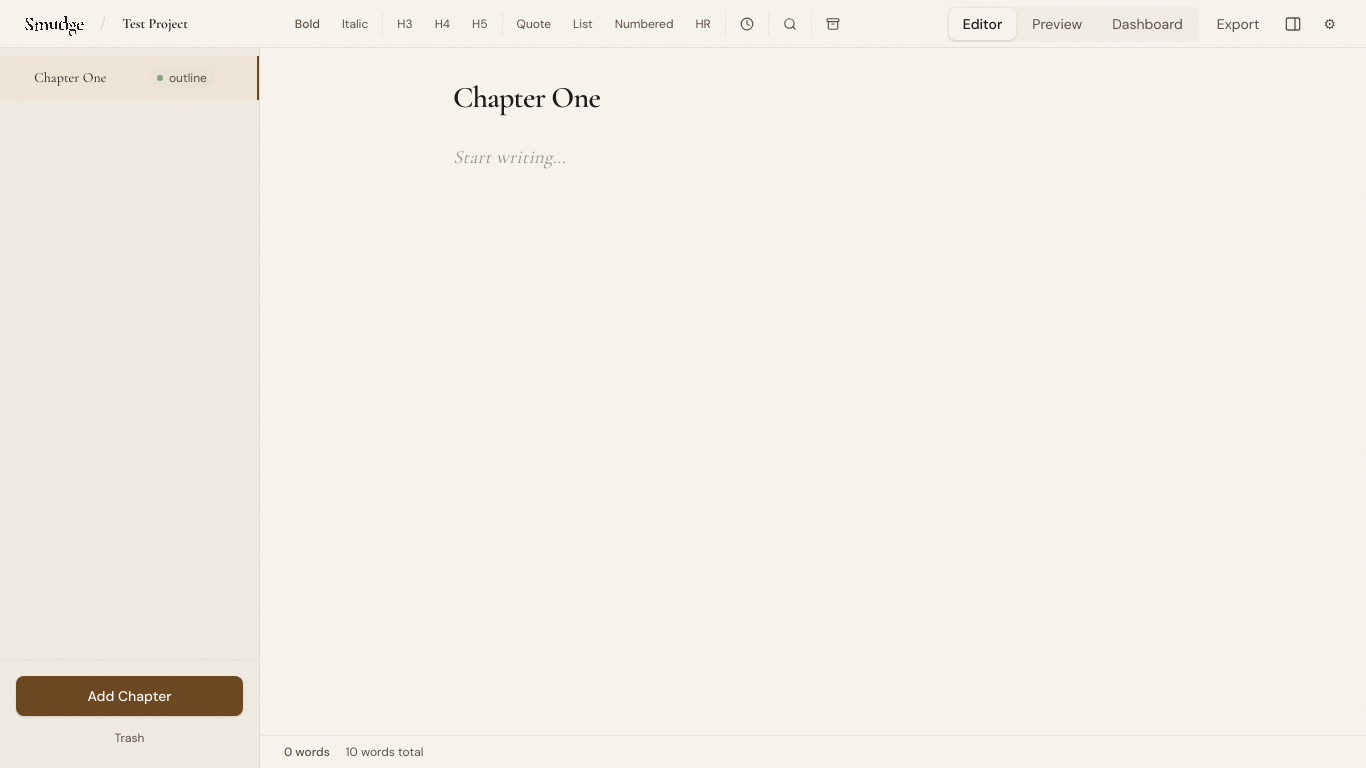
Test case: EditorPage F-1 safety net: Project settings dialog wiring › mounts the project settings dialog when the gear button is clicked and unmounts on close
Check: the heading "Chapter One" is shown, box [453,79,600,116]
Check: the heading "Project Settings" is not shown
Click the button named "Open project settings".
click(1330, 24)  # box [1317,8,1342,40]
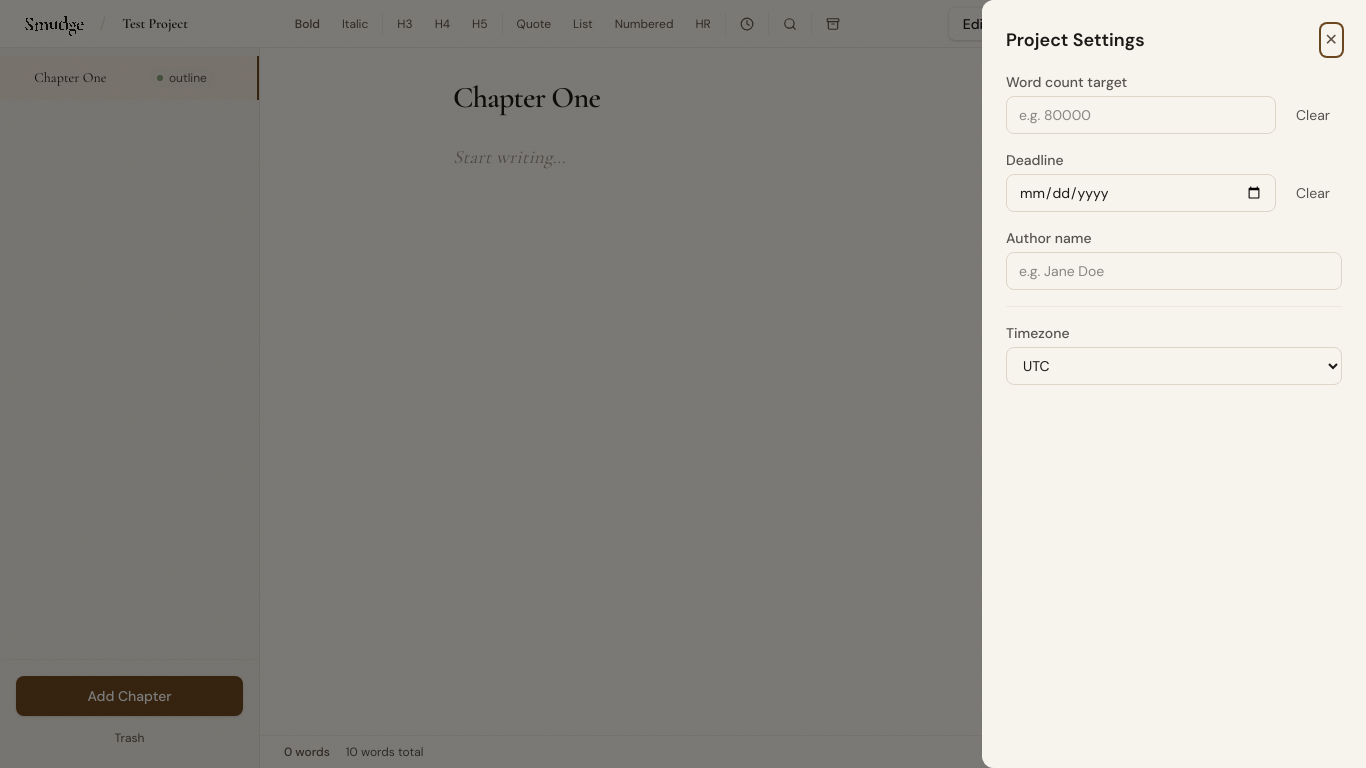
Check: the heading "Project Settings" is shown, box [1006,26,1145,54]
Click the button named "Close".
click(1331, 40)  # box [1321,24,1342,56]
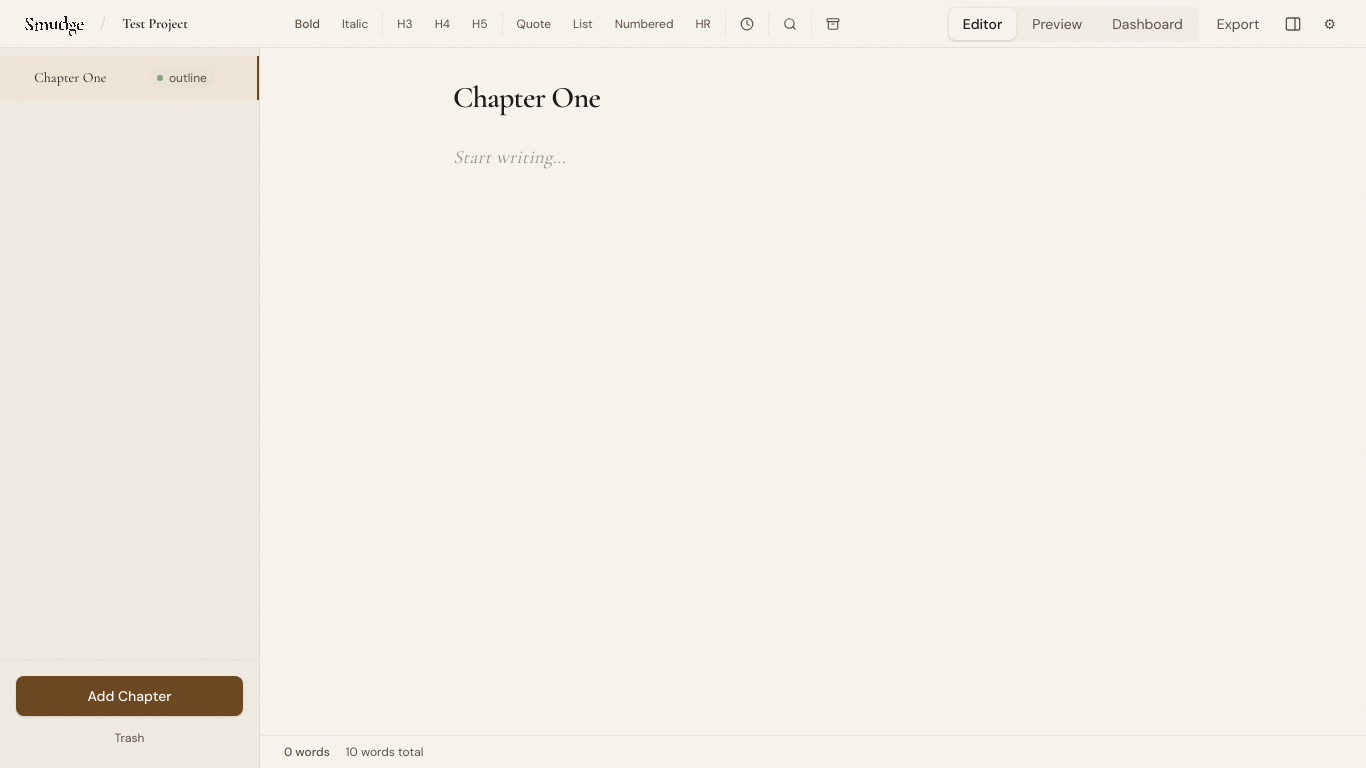
Check: the heading "Project Settings" is gone
